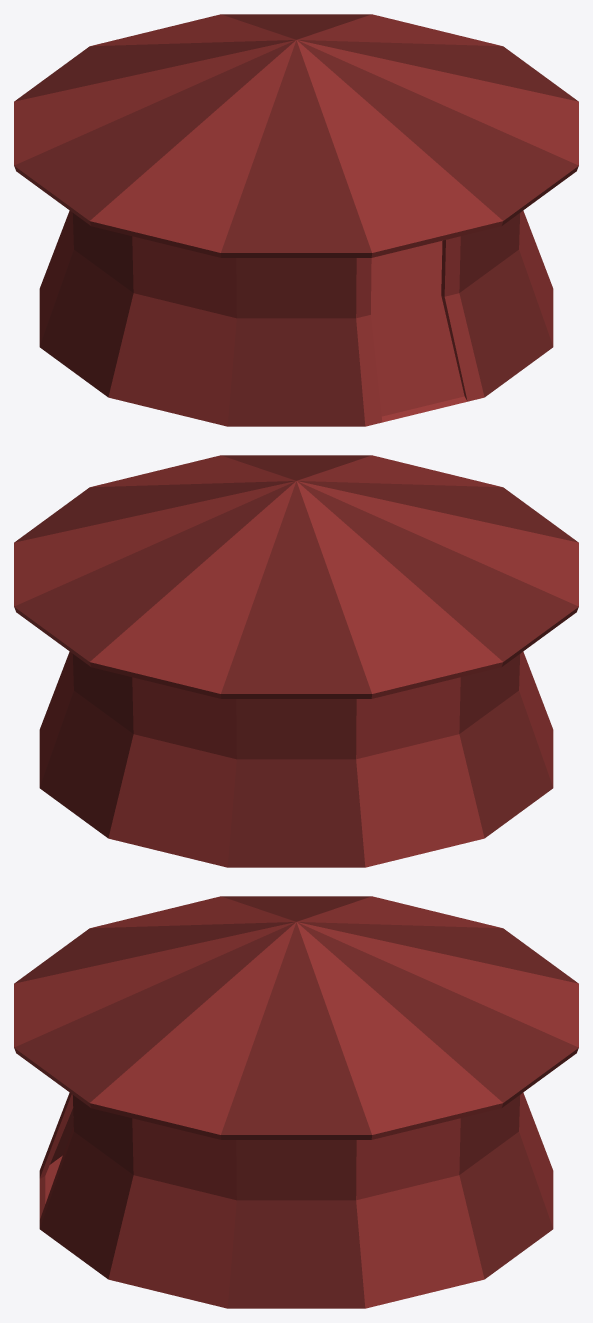
Rendered from Tent_5_Red.fbx.
3 renders of one model, top to bottom at view 1: azimuth 30°, elevation 25°; view 2: azimuth 150°, elevation 25°; view 3: azimuth 270°, elevation 25°, orthographic.
Visible parts, largest first — view 1: Tent_5_Red_Part_14, Tent_5_Red_Part_3, Tent_5_Red_Part_4, Tent_5_Red_Part_13, Tent_5_Red_Part_1, Tent_5_Red_Part_5, Tent_5_Red_Part_6, Tent_5_Red_Part_12; view 2: Tent_5_Red_Part_14, Tent_5_Red_Part_7, Tent_5_Red_Part_6, Tent_5_Red_Part_8, Tent_5_Red_Part_5, Tent_5_Red_Part_9, Tent_5_Red_Part_4, Tent_5_Red_Part_10; view 3: Tent_5_Red_Part_14, Tent_5_Red_Part_11, Tent_5_Red_Part_10, Tent_5_Red_Part_12, Tent_5_Red_Part_13, Tent_5_Red_Part_9, Tent_5_Red_Part_8, Tent_5_Red_Part_3, Tent_5_Red_Part_1.
Boxes of the visible parts, x1=… form: Tent_5_Red_Part_14: x1=14, y1=14, x2=578, y2=257; Tent_5_Red_Part_3: x1=227, y1=258, x2=382, y2=426; Tent_5_Red_Part_4: x1=108, y1=236, x2=236, y2=426; Tent_5_Red_Part_13: x1=441, y1=213, x2=553, y2=401; Tent_5_Red_Part_1: x1=371, y1=240, x2=467, y2=422; Tent_5_Red_Part_5: x1=39, y1=213, x2=133, y2=396; Tent_5_Red_Part_6: x1=39, y1=210, x2=73, y2=345; Tent_5_Red_Part_12: x1=519, y1=210, x2=553, y2=345; Tent_5_Red_Part_14: x1=14, y1=455, x2=578, y2=698; Tent_5_Red_Part_7: x1=227, y1=699, x2=365, y2=867; Tent_5_Red_Part_6: x1=356, y1=677, x2=484, y2=867; Tent_5_Red_Part_8: x1=108, y1=677, x2=236, y2=867; Tent_5_Red_Part_5: x1=459, y1=654, x2=553, y2=837; Tent_5_Red_Part_9: x1=39, y1=654, x2=133, y2=837; Tent_5_Red_Part_4: x1=519, y1=651, x2=553, y2=786; Tent_5_Red_Part_10: x1=39, y1=651, x2=73, y2=786; Tent_5_Red_Part_14: x1=14, y1=896, x2=578, y2=1139; Tent_5_Red_Part_11: x1=227, y1=1140, x2=365, y2=1308; Tent_5_Red_Part_10: x1=356, y1=1118, x2=484, y2=1308; Tent_5_Red_Part_12: x1=108, y1=1118, x2=236, y2=1308; Tent_5_Red_Part_13: x1=39, y1=1095, x2=133, y2=1278; Tent_5_Red_Part_9: x1=459, y1=1095, x2=553, y2=1278; Tent_5_Red_Part_8: x1=519, y1=1092, x2=553, y2=1227; Tent_5_Red_Part_3: x1=39, y1=1092, x2=73, y2=1178; Tent_5_Red_Part_1: x1=39, y1=1155, x2=62, y2=1219.
Size of the model in its own units: 819 by 445 by 819.
